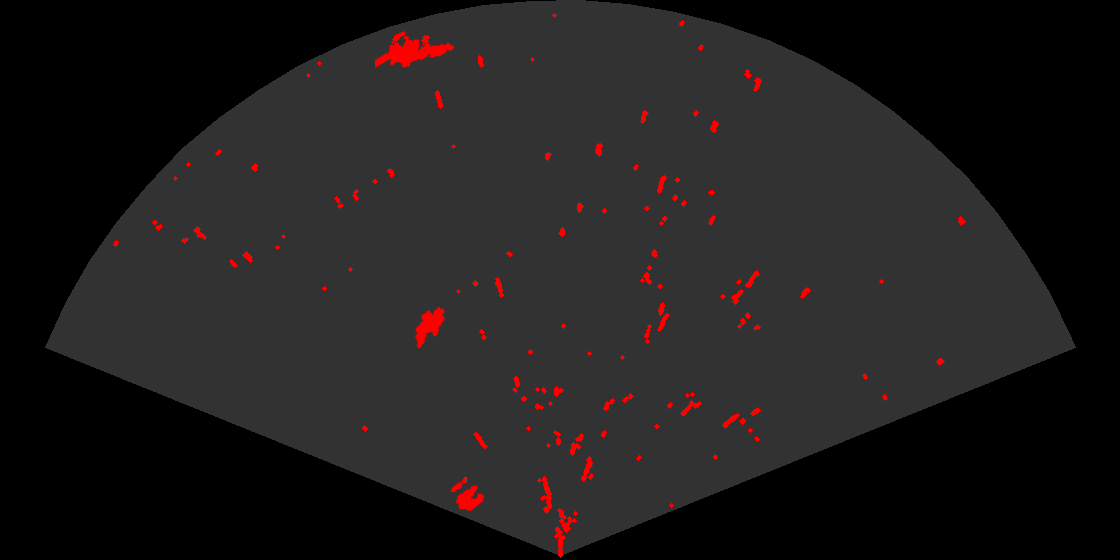AUV: (413, 305, 446, 350)
ball: (449, 477, 486, 513)
frogman: (375, 34, 456, 69)
